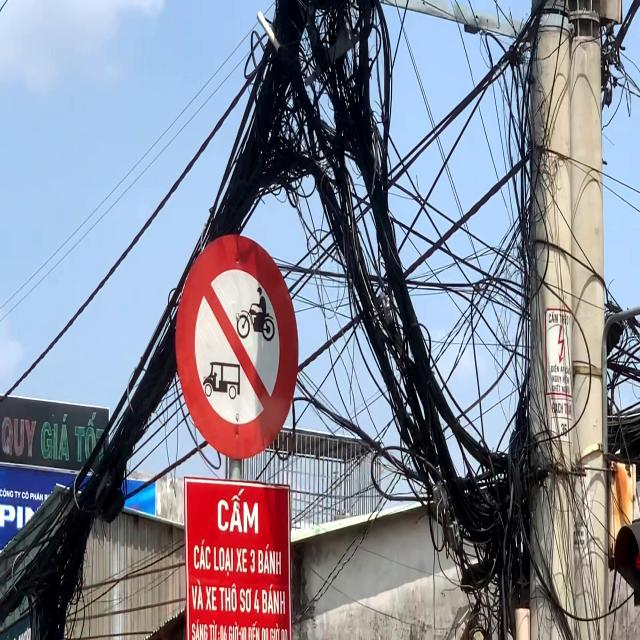P-104: (176, 235, 296, 459)
